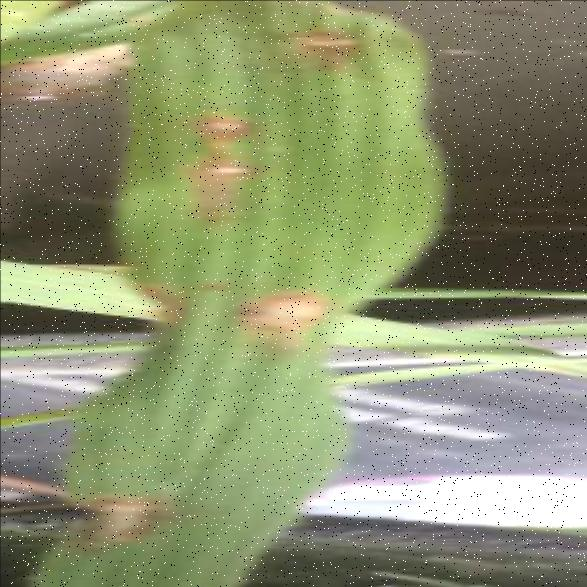Leaf_smut: (223, 268, 337, 356), (61, 476, 186, 555), (270, 12, 374, 90), (180, 147, 264, 221), (186, 96, 270, 149)
